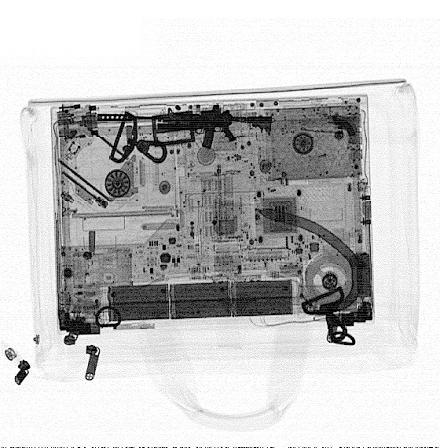Gun: (87, 102, 274, 151)
